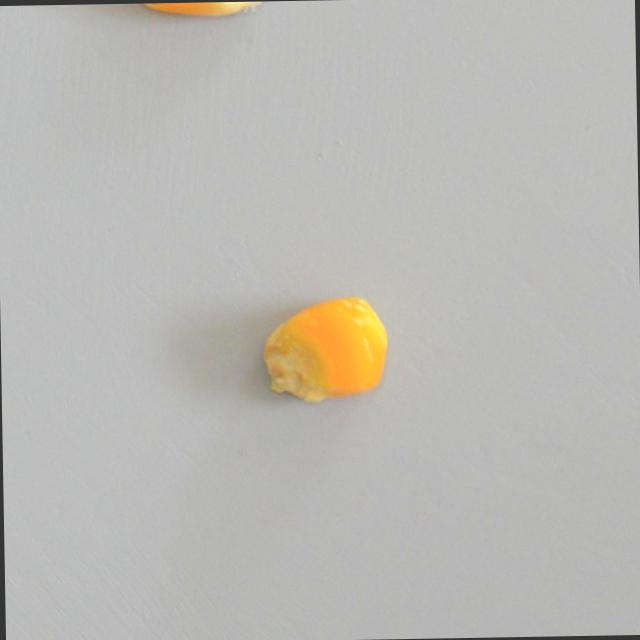dañado: (260, 292, 389, 405)
entero: (122, 1, 279, 22)
